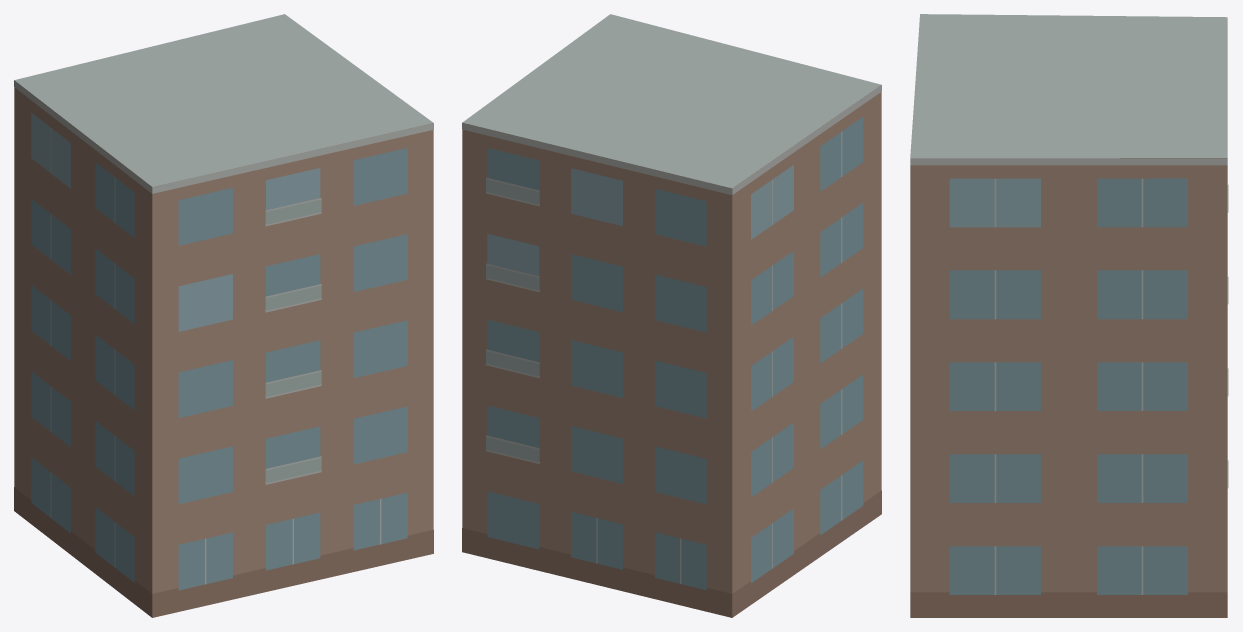
Rendered from survey-upis-32971314.glb.
The picture shows the model from 3 angles, left to right: view 1: azimuth 30°, elevation 25°; view 2: azimuth 150°, elevation 25°; view 3: azimuth 270°, elevation 25°; orthographic projection. The views are drawn at different scales.
Visible parts, largest first — view 1: survey-upis-32971314.tmp; view 2: survey-upis-32971314.tmp; view 3: survey-upis-32971314.tmp.
Boxes of the visible parts, x1=… form: survey-upis-32971314.tmp: x1=14, y1=14, x2=433, y2=617; survey-upis-32971314.tmp: x1=462, y1=14, x2=881, y2=617; survey-upis-32971314.tmp: x1=910, y1=14, x2=1228, y2=617.
Bounding box in the file's own units: 10.33 × 15.35 × 9.65.
